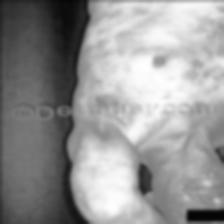Potentially Malignant Skin Tumors: (198, 1, 224, 43), (116, 100, 128, 122), (93, 94, 119, 104)
